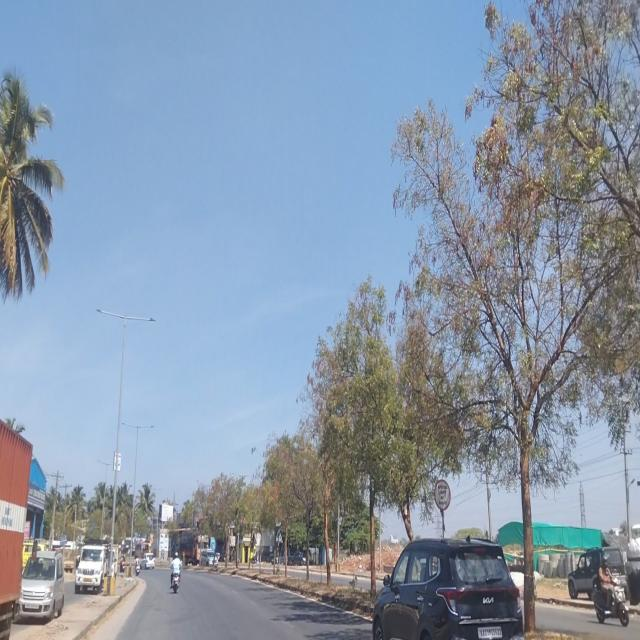bien_cam: (434, 477, 450, 511)
